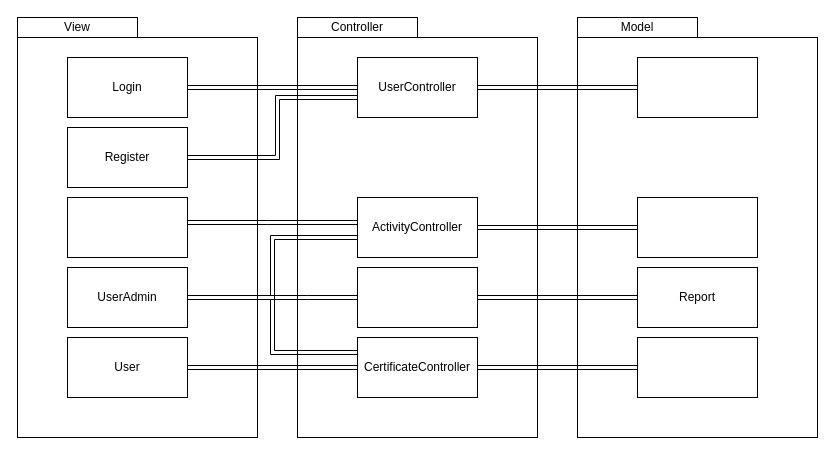
Some shapes in this 835 by 463 pixel diagram are drawn without their labels. The shapes that lost their labels are listed below. From the top down, each one's centre as x and y in pixels, then its label:
(x=697, y=87): Users
(x=127, y=227): NewActivity
(x=697, y=227): Activity
(x=417, y=297): ReportController
(x=697, y=367): Certificate
